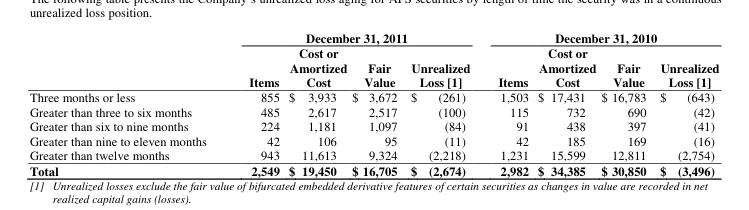table: (28, 28, 718, 178)
table column: (28, 28, 227, 178), (403, 28, 483, 178), (532, 28, 598, 178), (652, 28, 718, 178), (283, 28, 348, 178), (227, 28, 283, 178), (348, 28, 403, 178), (598, 28, 652, 178), (483, 28, 532, 178)
table column header: (28, 28, 718, 89)
table row: (28, 45, 718, 89), (28, 28, 718, 45), (28, 162, 718, 178), (28, 117, 718, 132), (28, 132, 718, 147), (28, 147, 718, 162), (28, 89, 718, 103), (28, 103, 718, 117)
table spanning cell: (227, 28, 483, 45), (483, 28, 718, 45)
